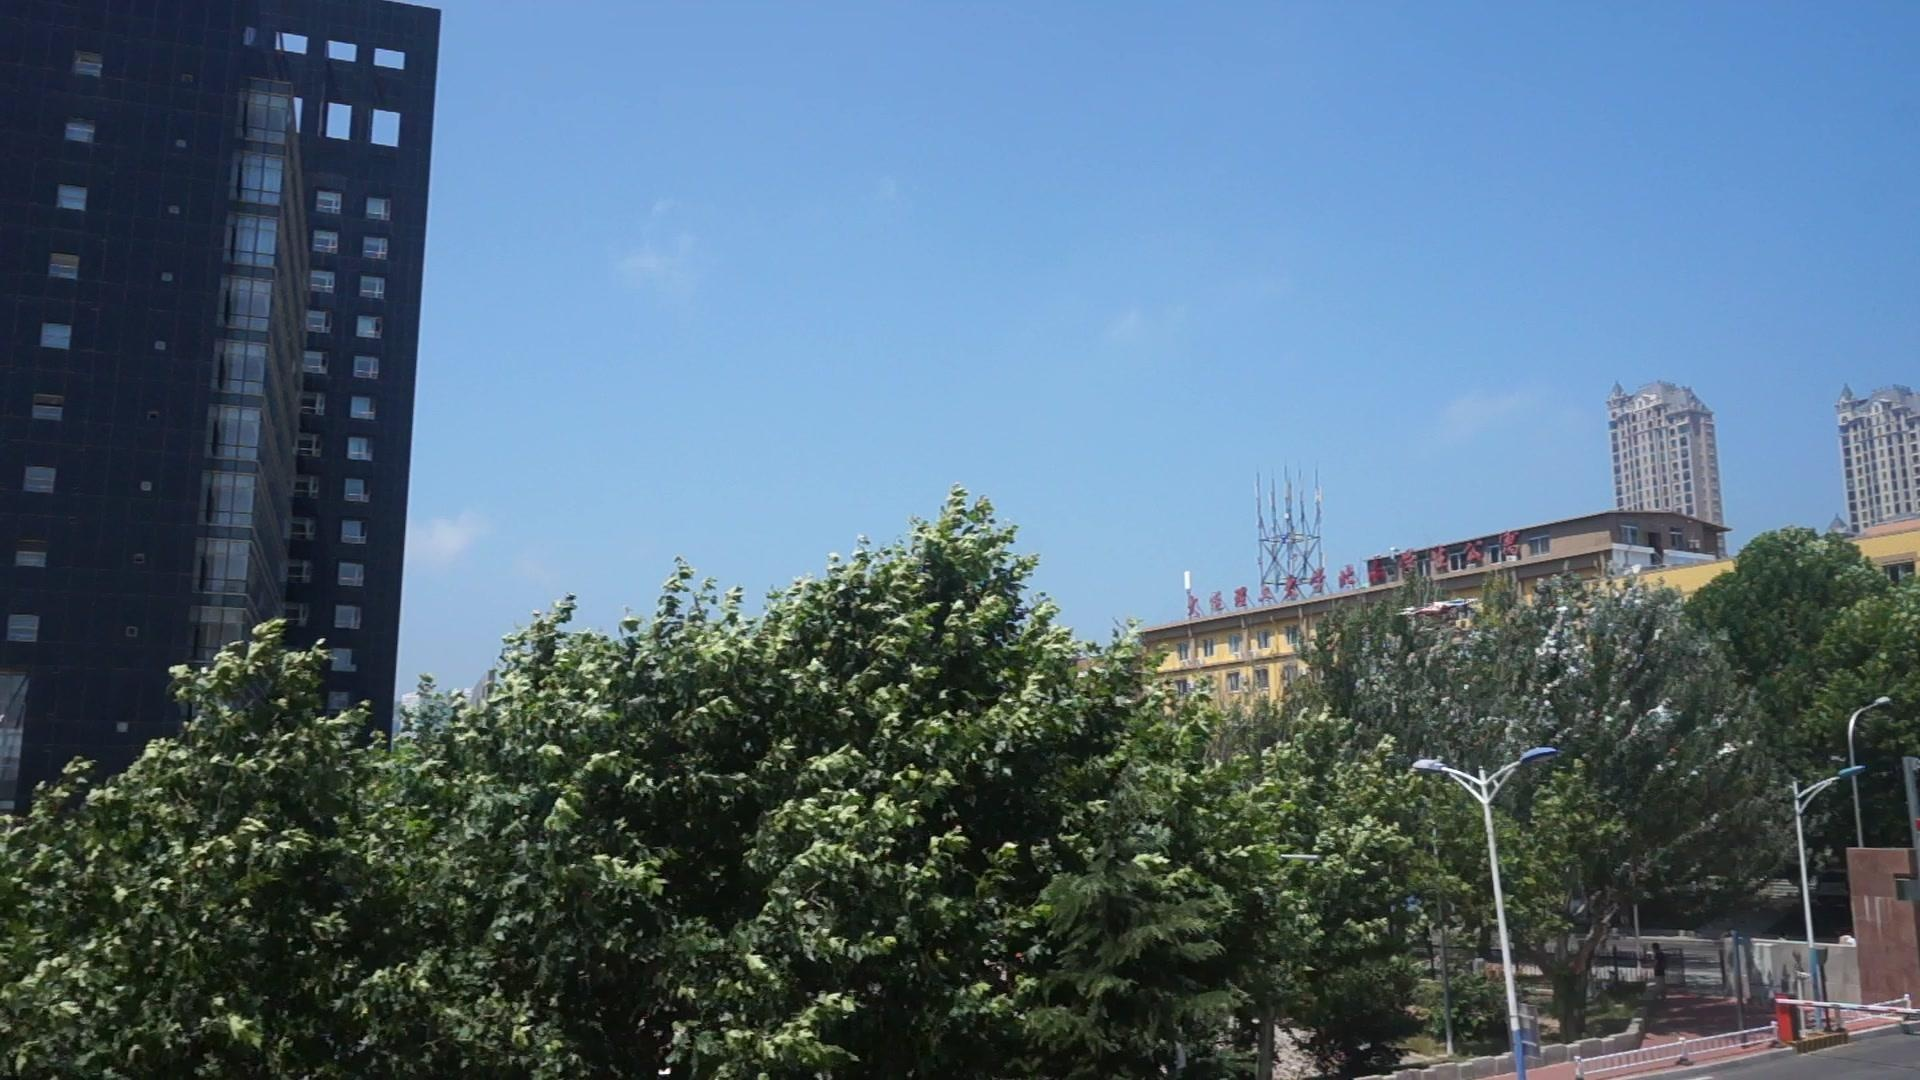UAV: (1396, 599, 1480, 632)
